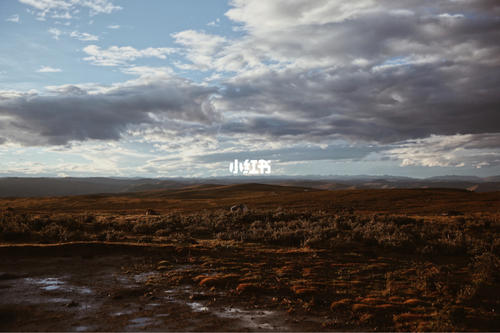sea_river: (30, 177, 498, 317)
